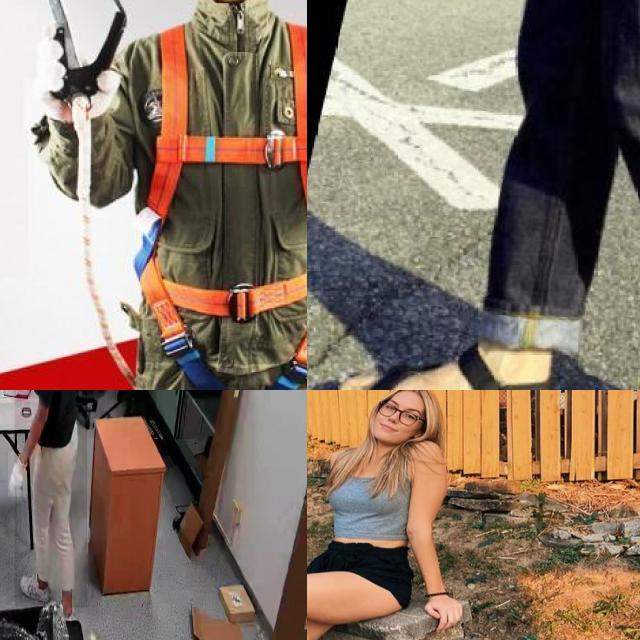Harness: (131, 19, 307, 390)
Sandals: (323, 278, 559, 390)
hand_glove: (8, 452, 28, 498)
person: (14, 390, 87, 608)
shoes: (16, 566, 52, 609)
